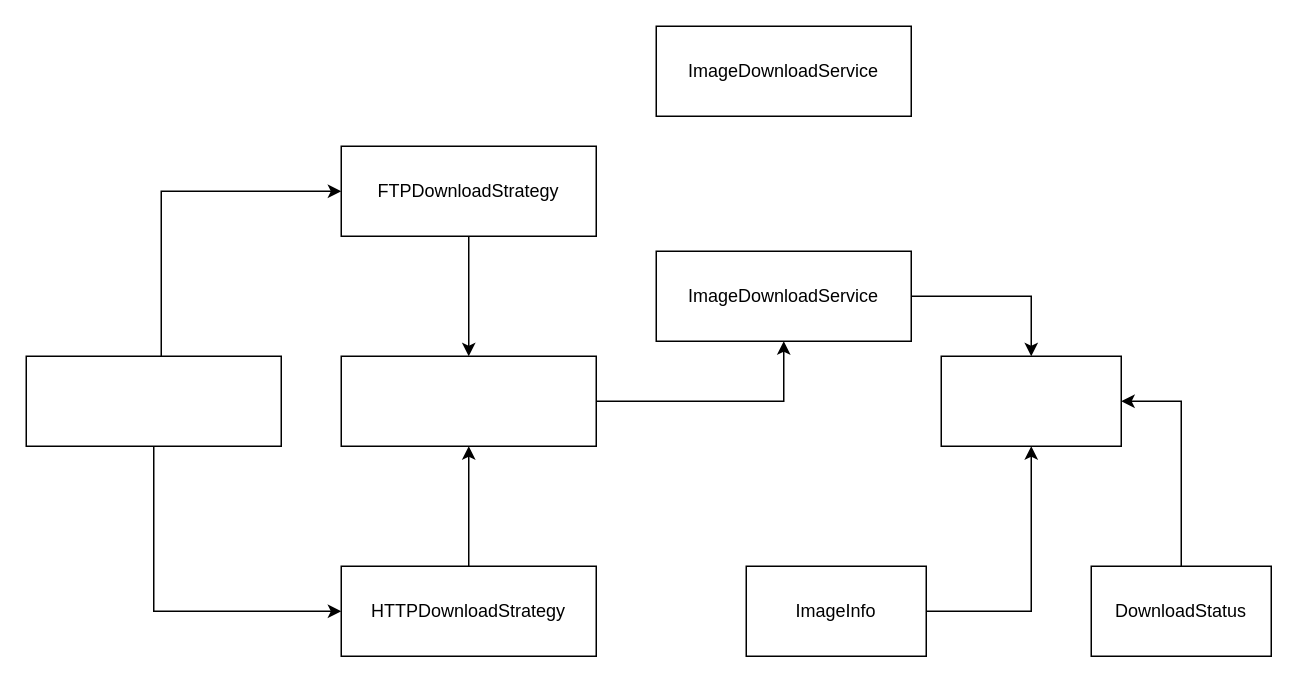
Image size: 1298x683. Some labels were removed from this diagram. Here are the shapes that lost their labels. From the top down, the centre of each, then its label:
the point at 153,400: DownloadStrategy
the point at 468,400: DownloadStratagyFactory
the point at 1030,400: DownloadTask
